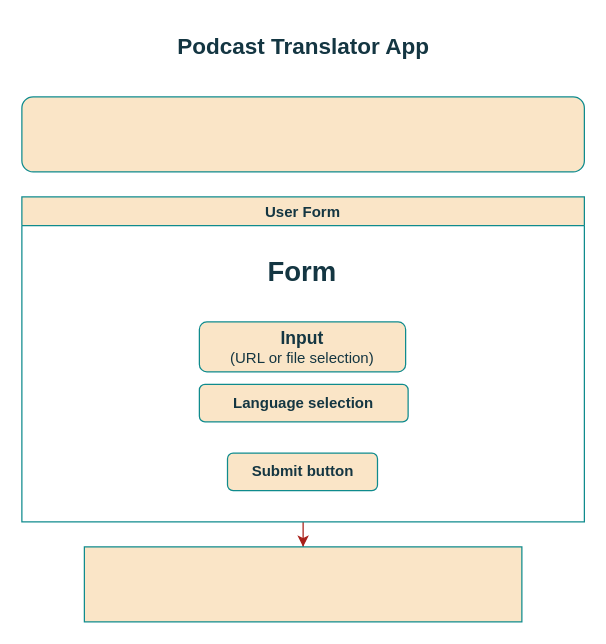
The diagram is 606 pixels wide and 644 high, and some of its shapes have lost their labels. The centre of each missing label's shape, as x and y in pixels:
Download or display transcription: [302,584]
Header: [302,134]
